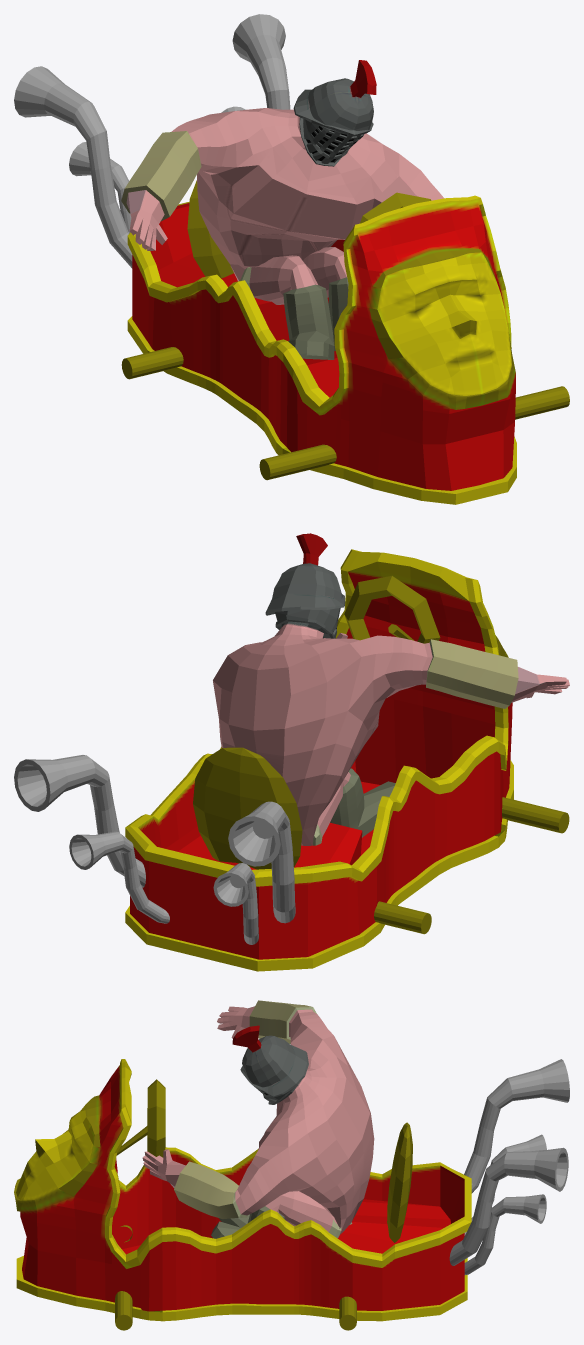
Rendered from gladiVacile_000562.obj.
The picture shows the model from 3 angles, top to bottom: view 1: azimuth 30°, elevation 25°; view 2: azimuth 150°, elevation 25°; view 3: azimuth 270°, elevation 25°; orthographic projection. The views are drawn at different scales.
Visible parts, largest first — view 1: GladiChasis_GladiChasisH, Gadiador_Gladiador_H.001, GladiTubos_GladiTubosH, GladiVolante_GladiVolanteH; view 2: GladiChasis_GladiChasisH, Gadiador_Gladiador_H.001, GladiTubos_GladiTubosH, GladiVolante_GladiVolanteH; view 3: GladiChasis_GladiChasisH, Gadiador_Gladiador_H.001, GladiTubos_GladiTubosH, GladiVolante_GladiVolanteH.
Boxes of the visible parts, x1,y1,x2,y2 form: GladiChasis_GladiChasisH: (127,195,516,504); Gadiador_Gladiador_H.001: (121,60,443,359); GladiTubos_GladiTubosH: (14,14,290,268); GladiVolante_GladiVolanteH: (121,180,569,480); GladiChasis_GladiChasisH: (125,549,513,971); Gadiador_Gladiador_H.001: (213,533,569,845); GladiTubos_GladiTubosH: (14,755,295,944); GladiVolante_GladiVolanteH: (193,576,569,934); GladiChasis_GladiChasisH: (14,1059,471,1321); Gadiador_Gladiador_H.001: (142,1000,374,1238); GladiTubos_GladiTubosH: (449,1059,569,1274); GladiVolante_GladiVolanteH: (115,1079,412,1330).
Bounding box in the file's own units: 6.72 × 5.62 × 10.78.
